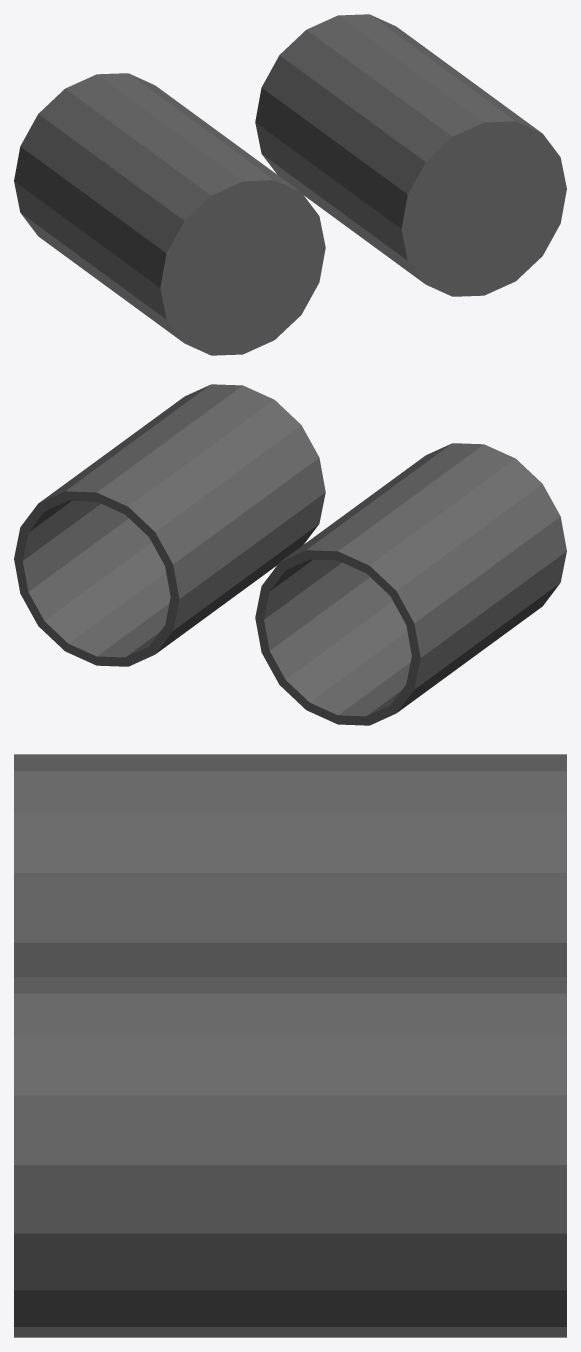
Rendered from 3_Thruster.fbx.
3 renders of one model, top to bottom at view 1: azimuth 30°, elevation 25°; view 2: azimuth 150°, elevation 25°; view 3: azimuth 270°, elevation 25°, orthographic. The views are drawn at different scales.
Parts seen in each view (by area): view 1: 3_Thruster; view 2: 3_Thruster; view 3: 3_Thruster.
Boxes of the visible parts, x1,y1,x2,y2 form: 3_Thruster: [14, 14, 566, 355]; 3_Thruster: [14, 384, 566, 725]; 3_Thruster: [14, 754, 566, 1337].
Bounding box in the file's own units: 0.4627 × 0.1883 × 0.2883.
1 material, 1 textured.
